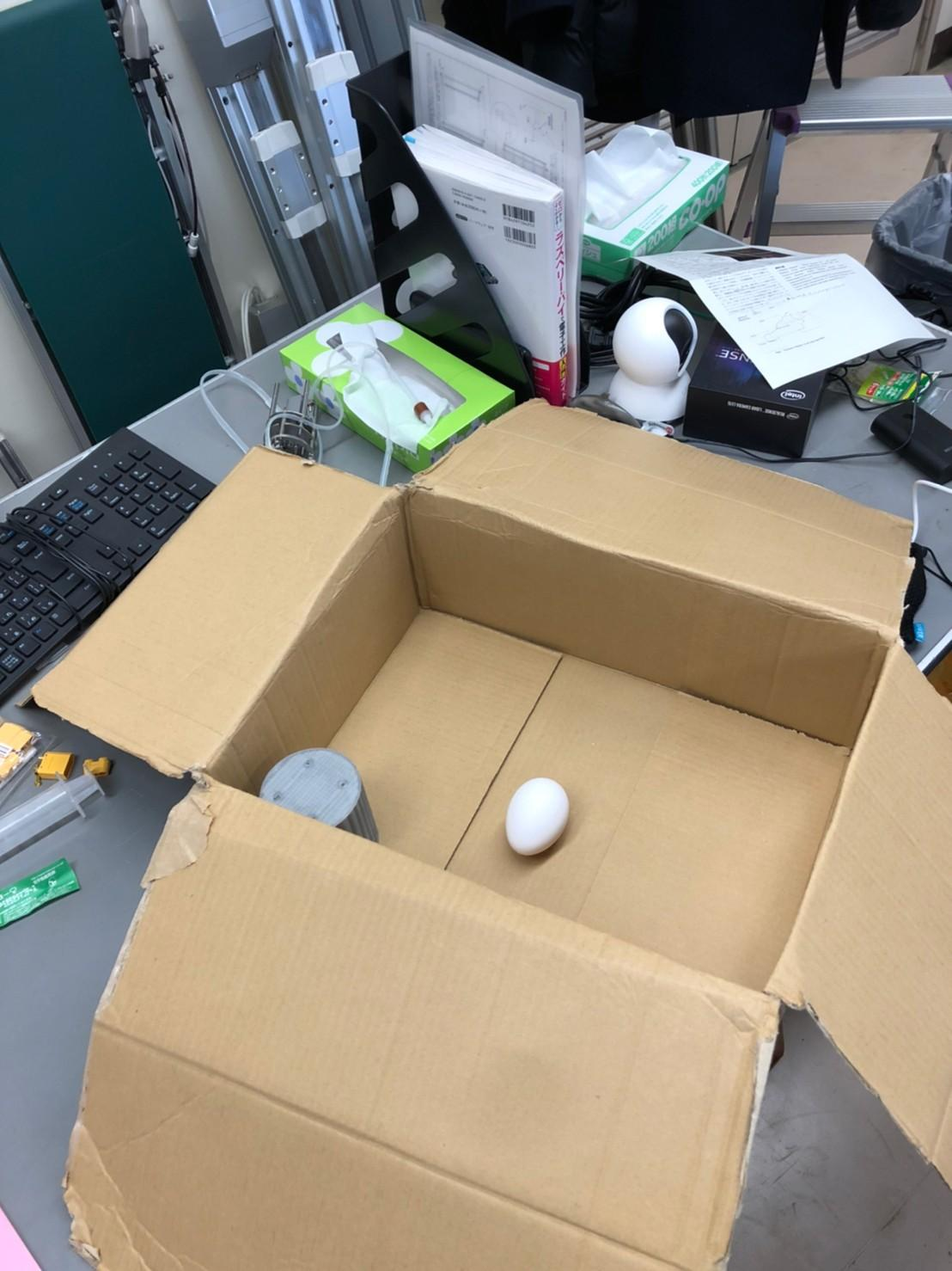egg: (494, 768, 575, 858)
